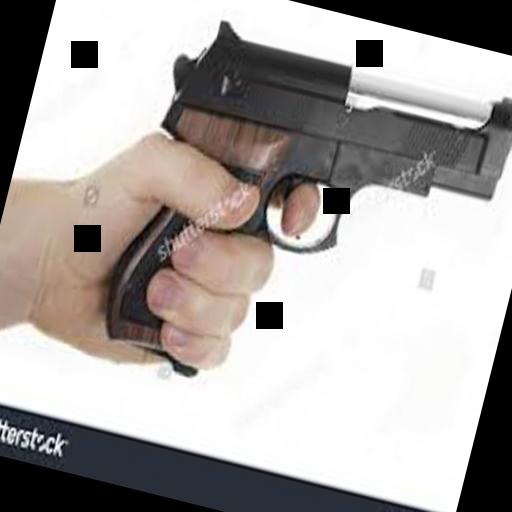Handgun: (98, 0, 512, 430)
